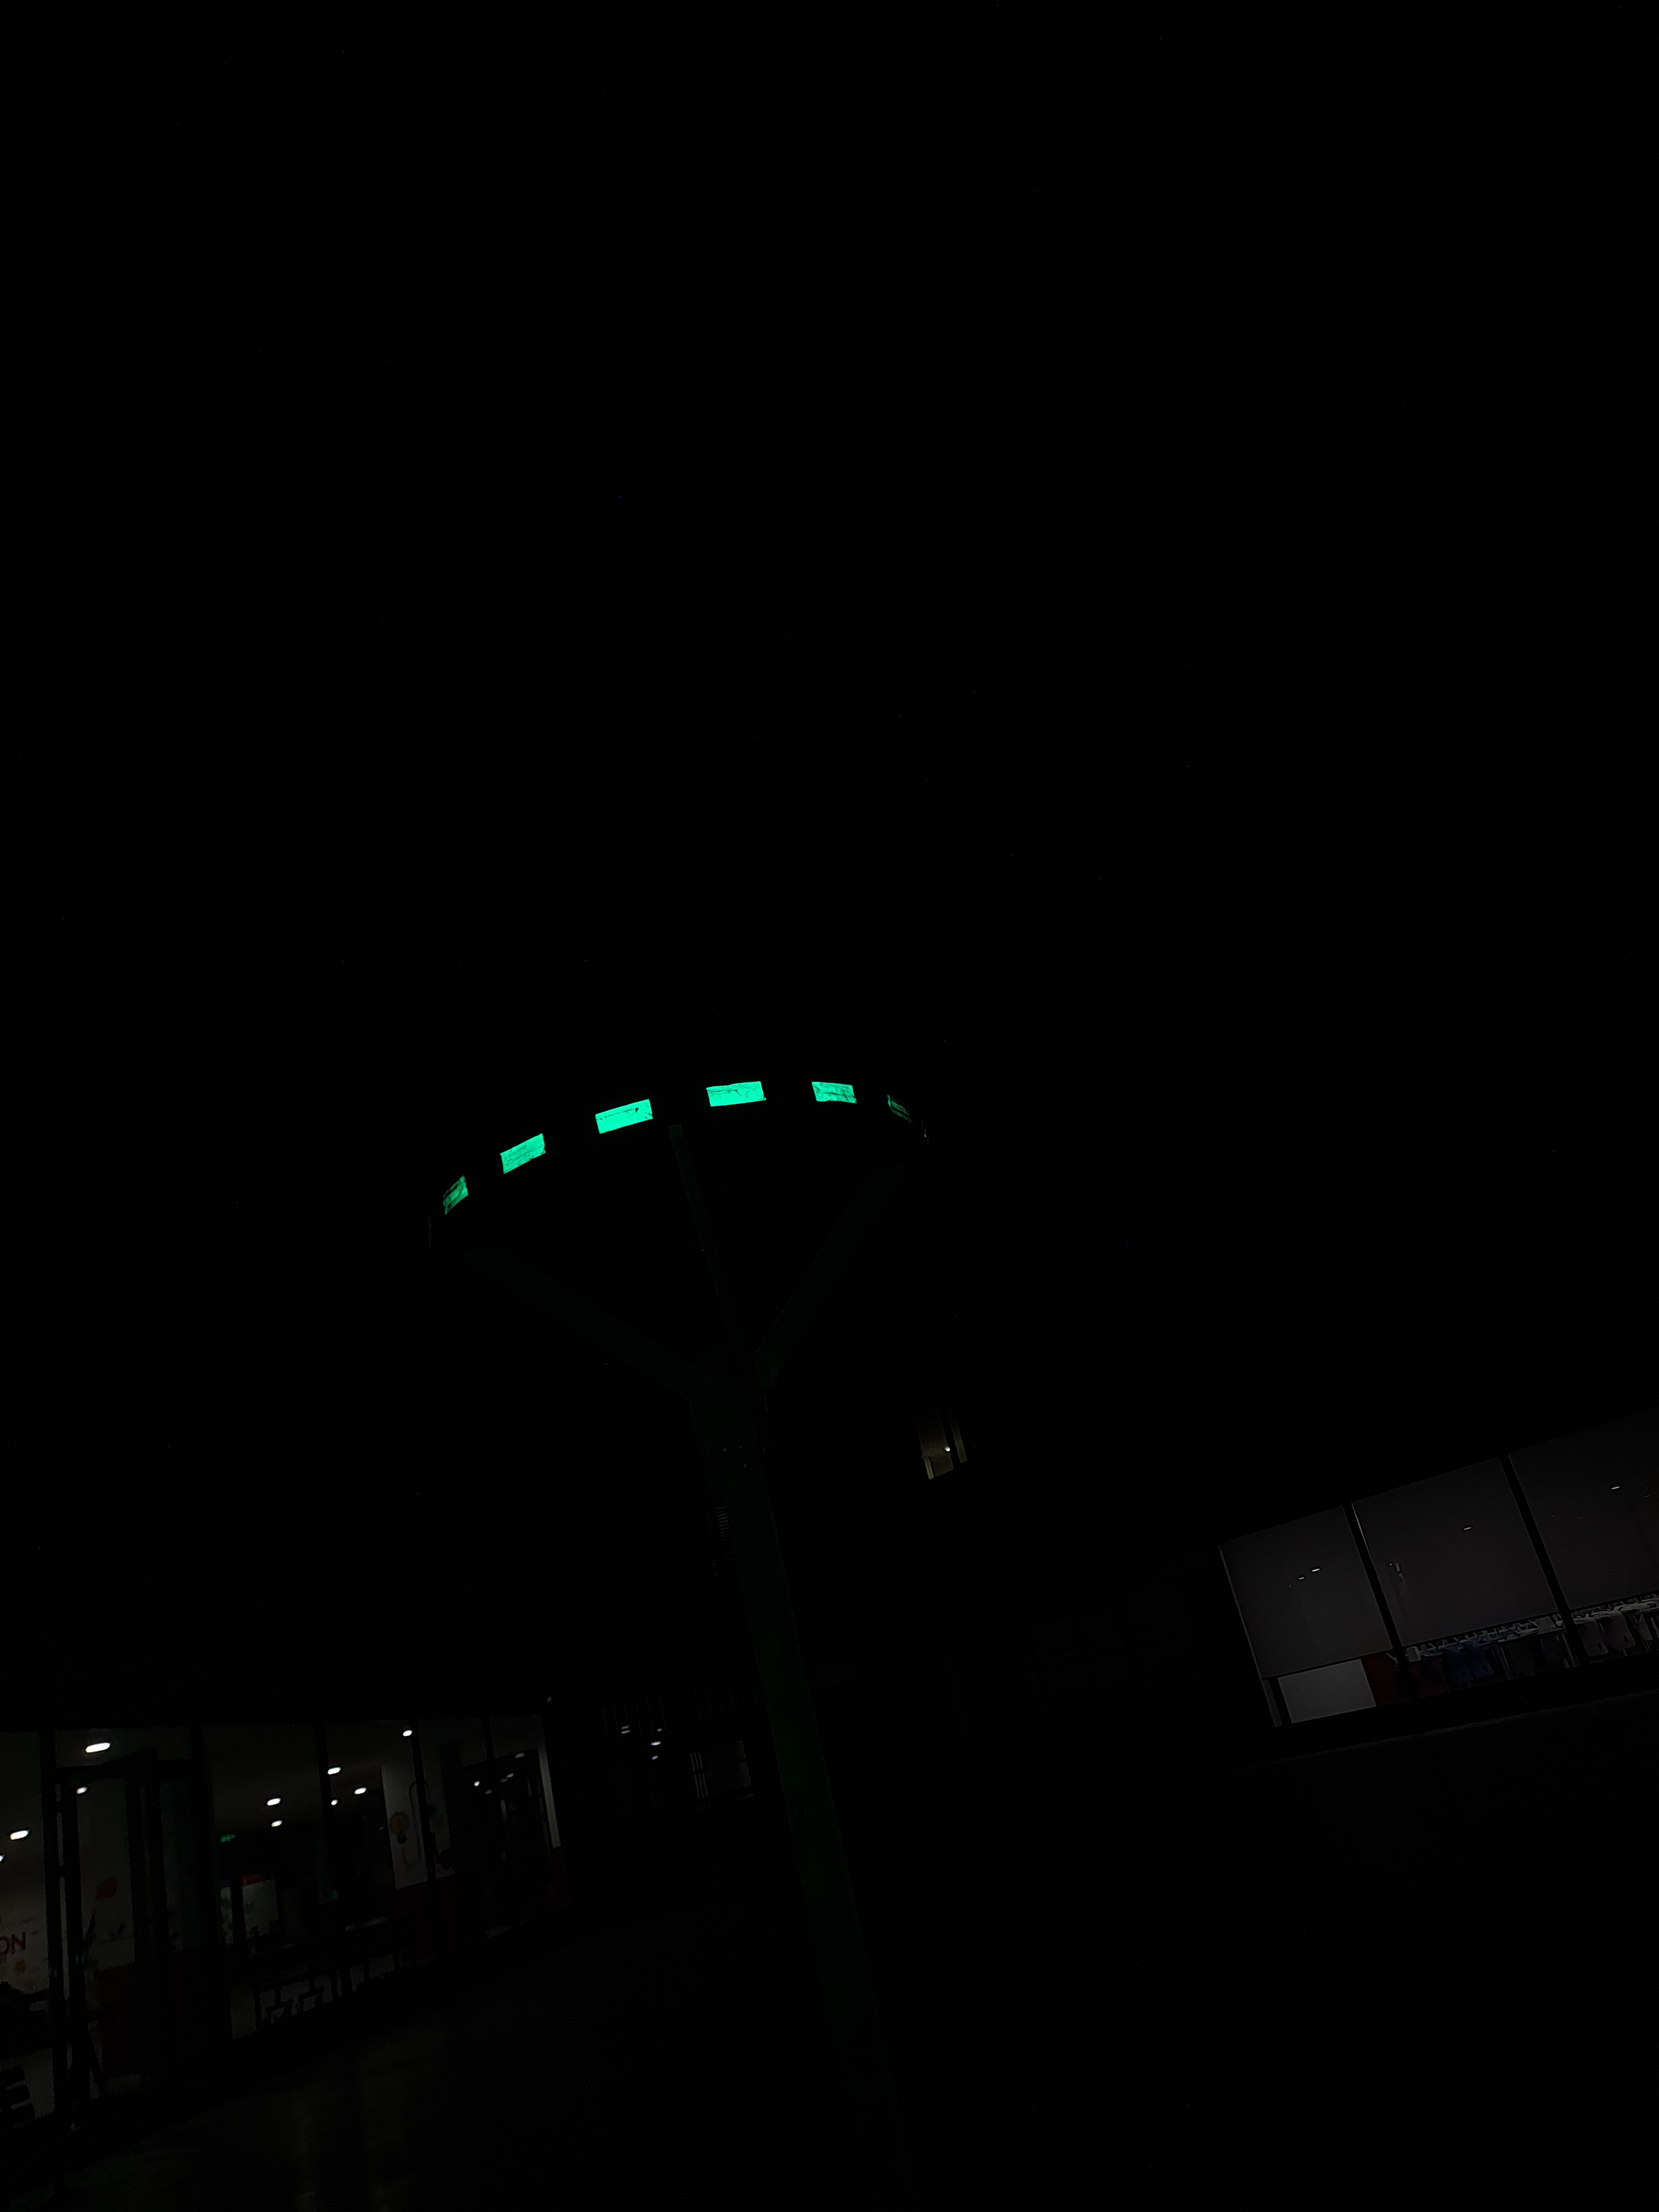hoop: (434, 1076, 861, 1224)
